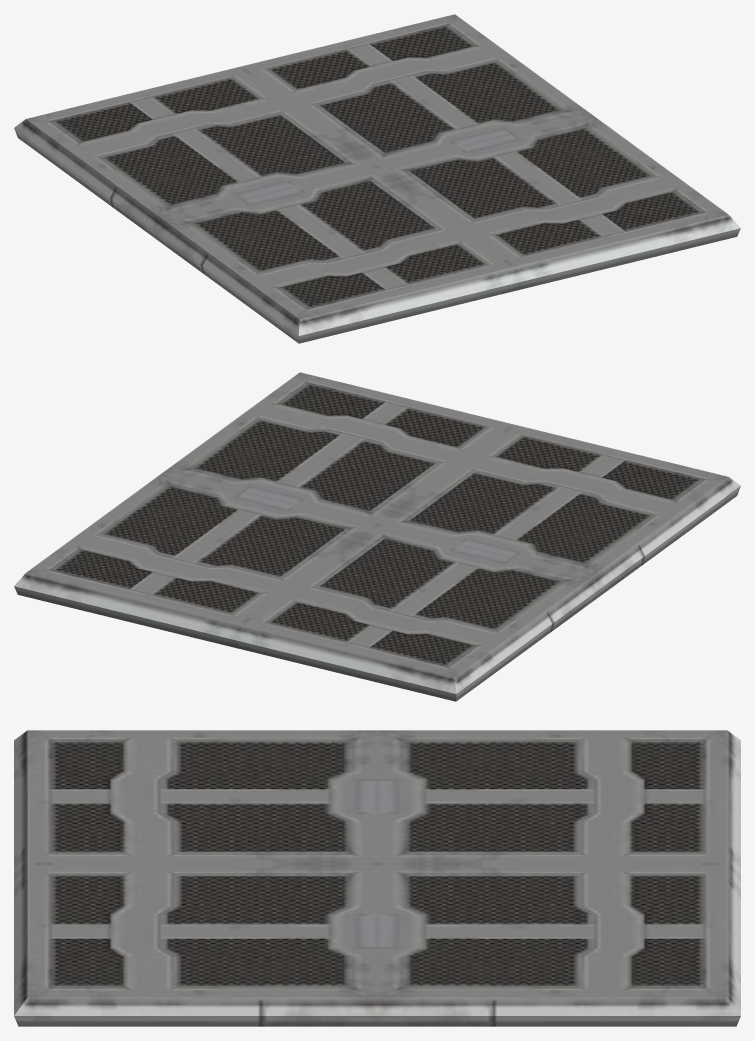
Rendered from Part - Pad 06-D5alDc-T.glb.
3 renders of one model, top to bottom at view 1: azimuth 30°, elevation 25°; view 2: azimuth 150°, elevation 25°; view 3: azimuth 270°, elevation 25°, orthographic. The views are drawn at different scales.
Visible parts, largest first — view 1: Pad_06; view 2: Pad_06; view 3: Pad_06.
Part boxes in pixels (bbox=[...]): Pad_06: bbox=[14, 14, 740, 343]; Pad_06: bbox=[14, 372, 740, 701]; Pad_06: bbox=[14, 730, 740, 1026].
Size of the model in its own units: 2.39 by 0.1057 by 2.66.
1 material, 1 textured.
